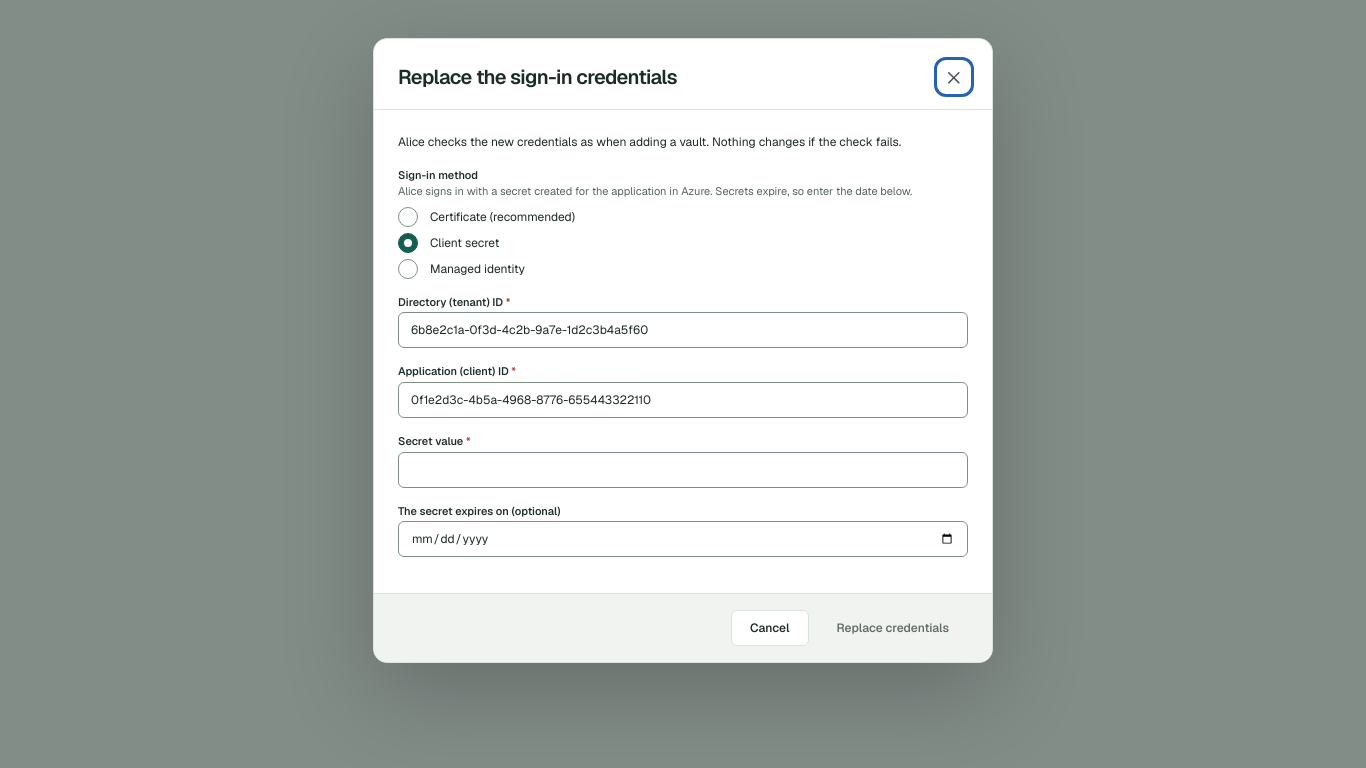
Scenario: ReplaceCredentialsDialog › wipes the secret field when the dialog is cancelled, even if the parent keeps it mounted
The image size is (1366, 768).
Step 1. Type "fake-new-secret" into the password field labelled "Secret value *" → (683, 470), box [398,452,968,488]
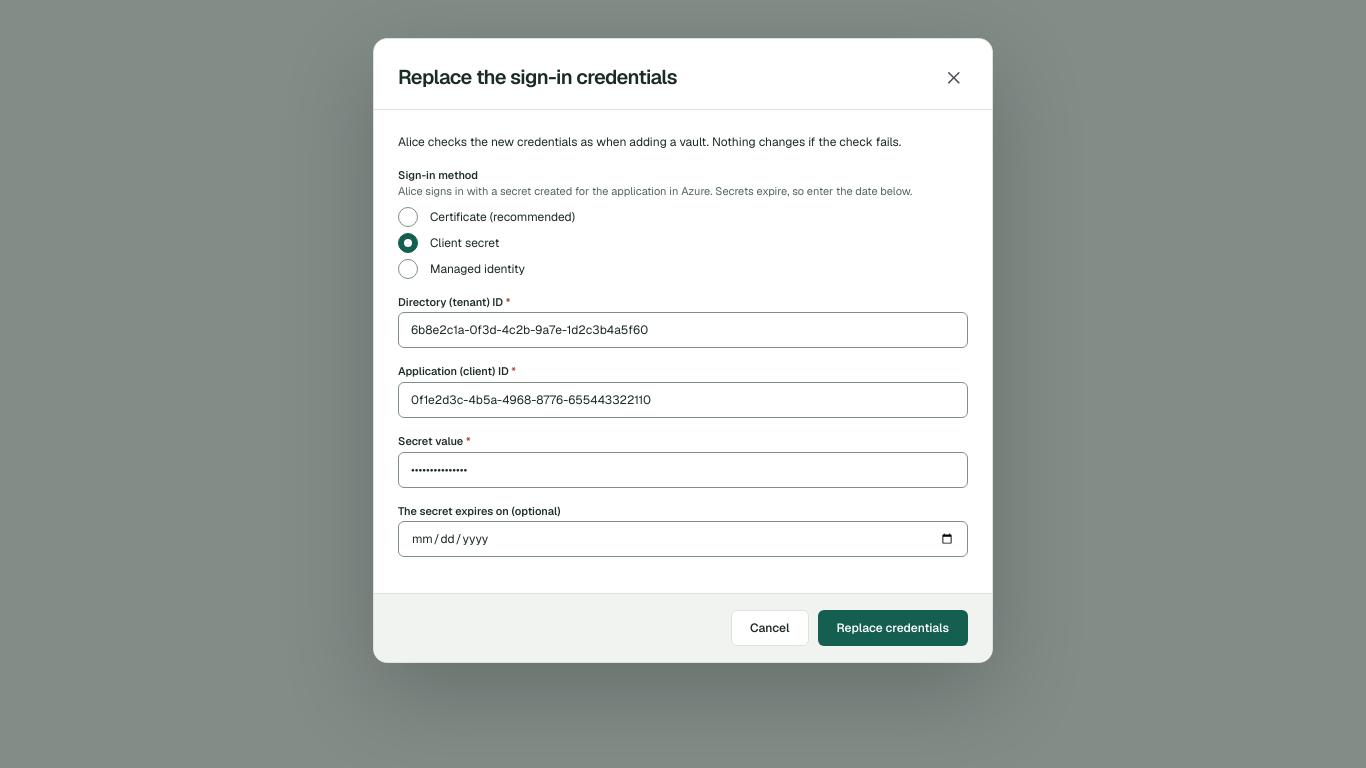
Step 2. Click the button "Cancel" → click(770, 628), box [731,610,809,646]
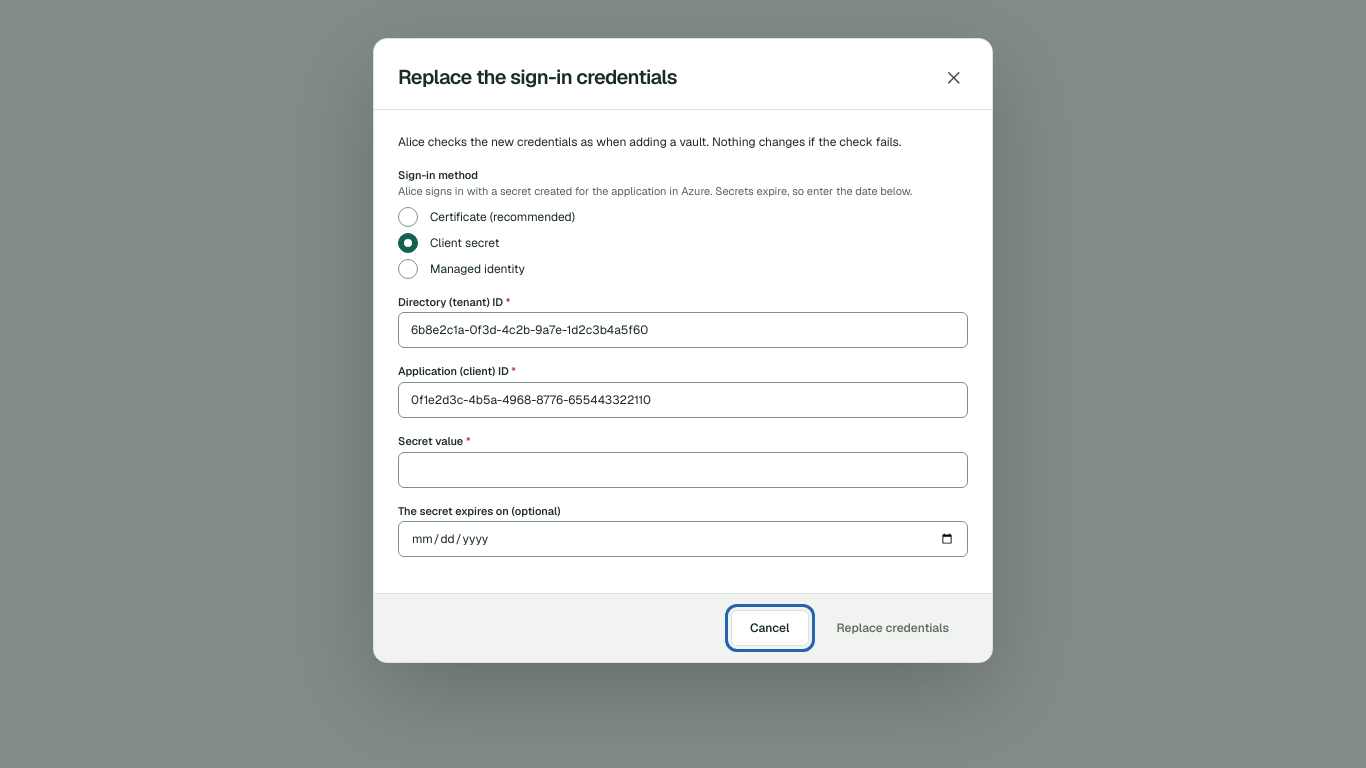
Expected: the password field labelled "Secret value *" is empty, [398,452,968,488]
